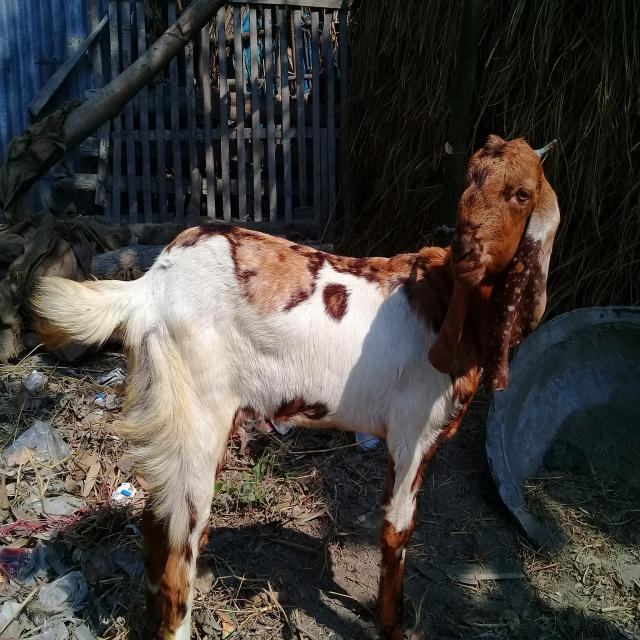Goat: (26, 132, 562, 639)
